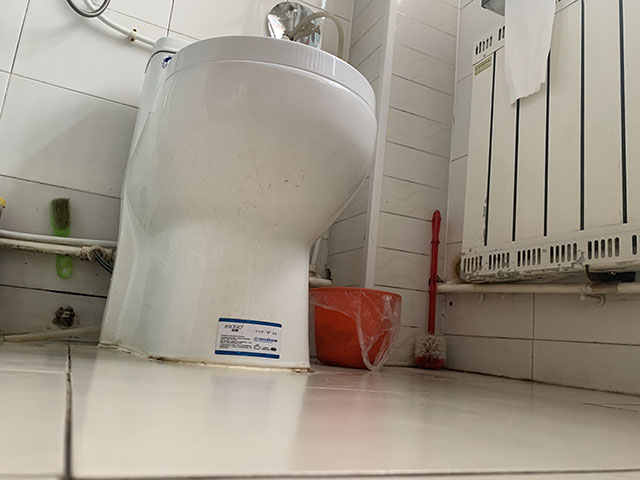closestool: (95, 31, 379, 372)
trashcan: (309, 287, 403, 374)
